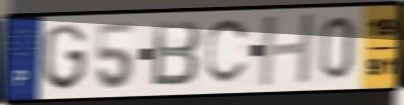0: (318, 14, 359, 83)
5: (94, 19, 136, 91)
B: (149, 18, 204, 89)
C: (203, 16, 253, 87)
G: (40, 22, 88, 93)
H: (257, 11, 318, 90)
